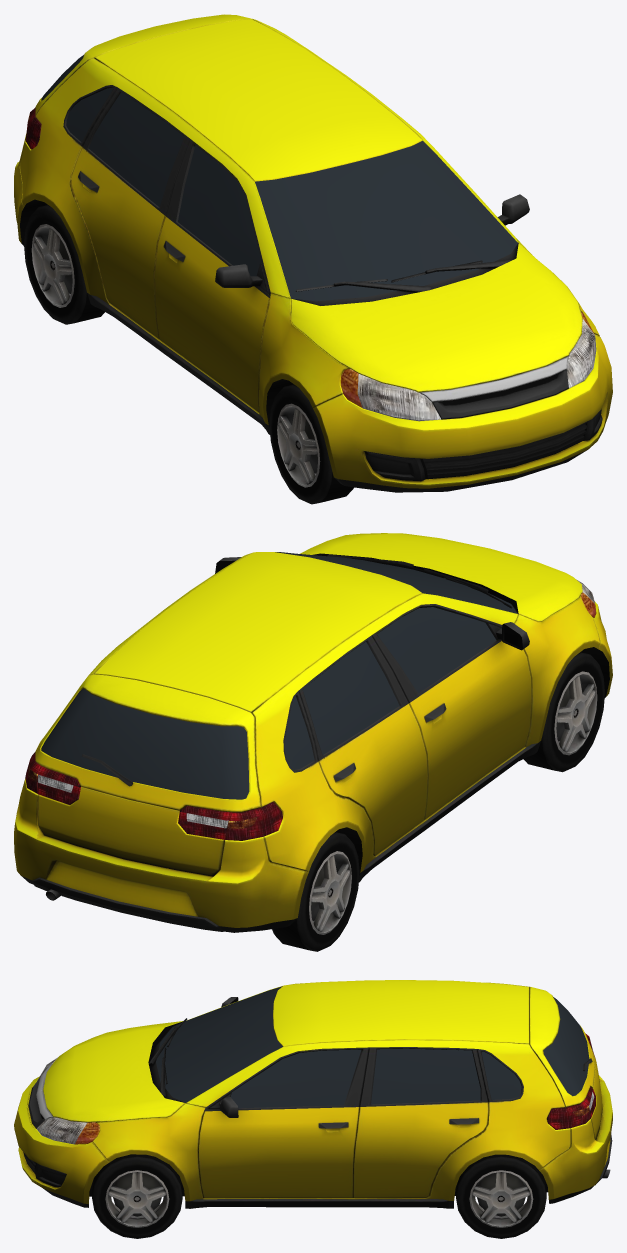
The model's file is car_hatchback.gltf.
3 views of the same model, one above another, from view 1: azimuth 30°, elevation 25°; view 2: azimuth 150°, elevation 25°; view 3: azimuth 270°, elevation 25° (orthographic). The views are drawn at different scales.
Visible parts, largest first — view 1: car_hatchback; view 2: car_hatchback; view 3: car_hatchback.
Boxes of the visible parts, <box> form: car_hatchback: <box>14,14,612,504</box>; car_hatchback: <box>14,533,612,951</box>; car_hatchback: <box>14,980,612,1238</box>.
Bounding box in the file's own units: 1.8 × 1.4 × 4.1.
Materials: 1 (1 with a texture image).
